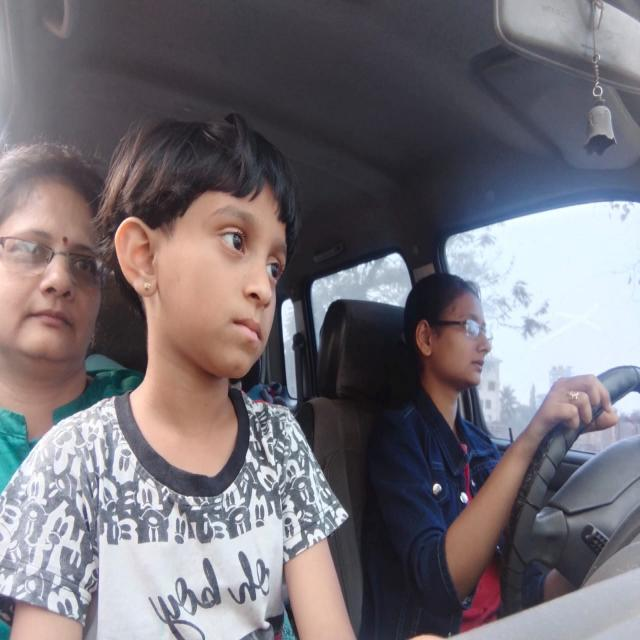person: (105, 110, 297, 402), (1, 135, 124, 397), (400, 260, 496, 433)
